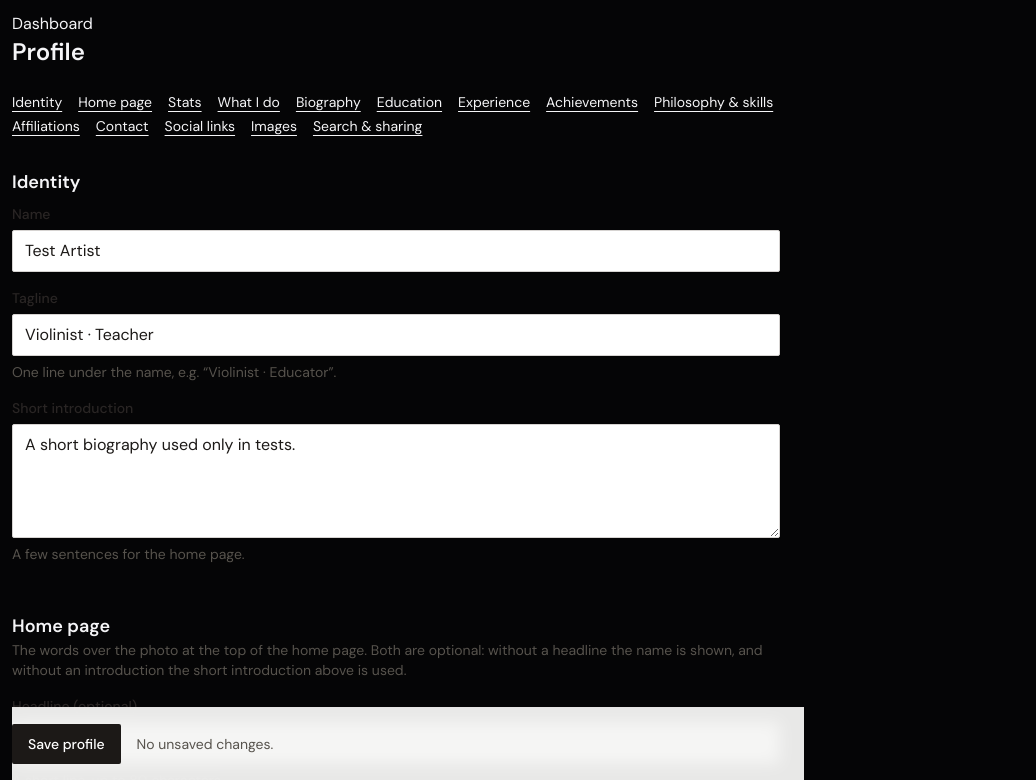
Test: profile editor › sends the whole profile back, keeping images and the hidden phone number
Replace the text in the field labelled "Tagline" with "Violinist". click: coordinates (396, 335)
box: left=12, top=314, right=780, bottom=356
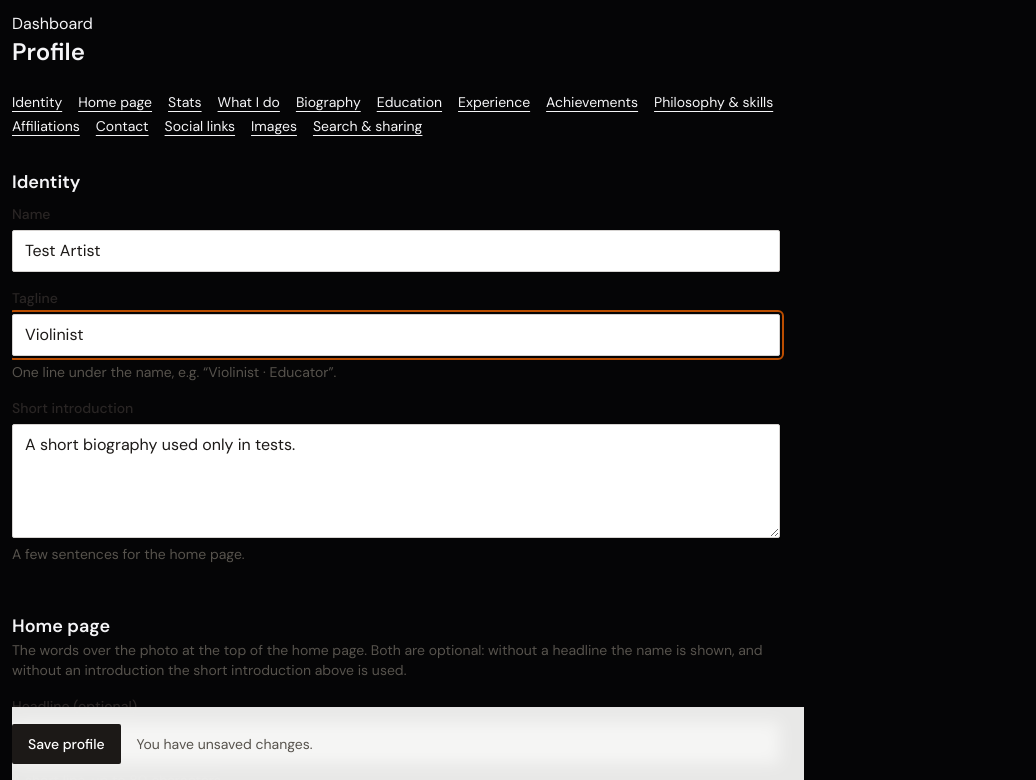
Click the button "Save profile". click: coordinates (66, 744)
box: left=12, top=724, right=121, bottom=764
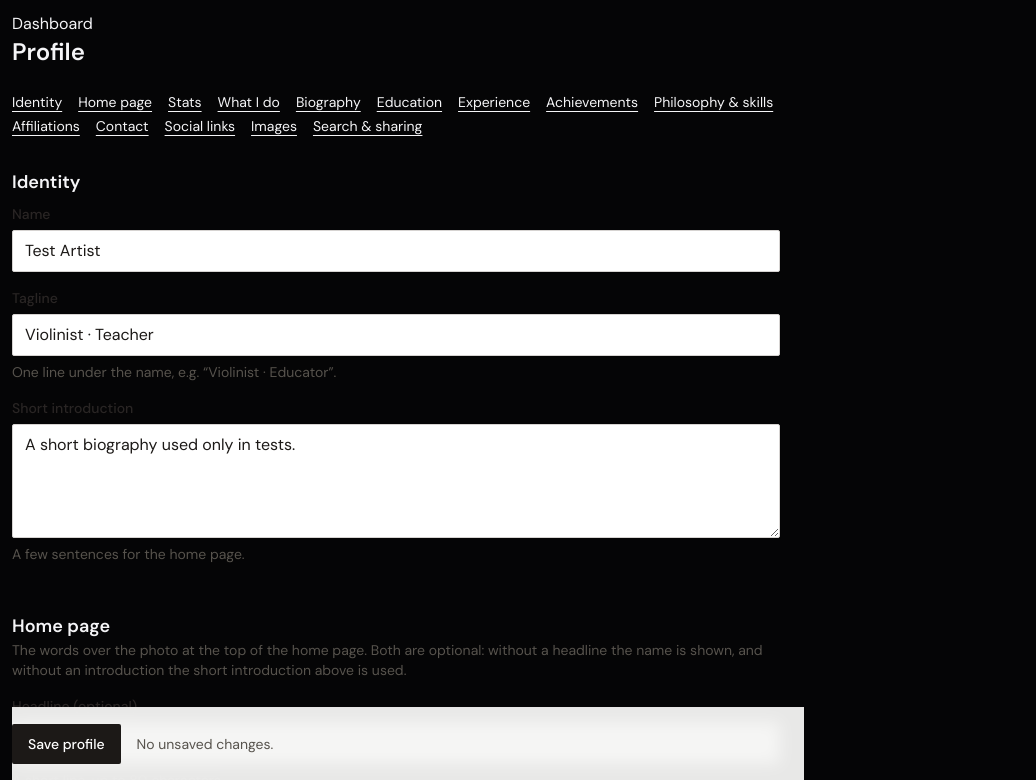
Expected: the text "No unsaved changes." is shown, left=137, top=734, right=273, bottom=754
